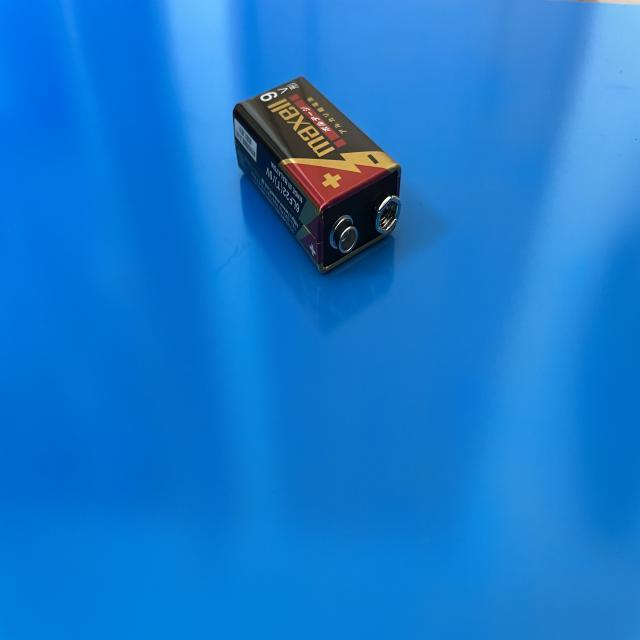9V: (232, 76, 402, 272)
